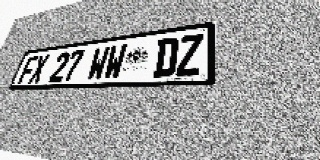2: (48, 51, 71, 82)
7: (61, 49, 85, 82)
D: (152, 37, 179, 77)
F: (17, 56, 39, 84)
W: (102, 44, 128, 80), (86, 46, 111, 81)
X: (28, 54, 50, 83)
Z: (176, 33, 203, 76)
